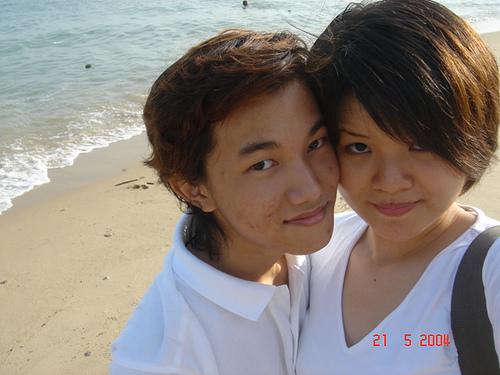without_mask: (175, 71, 341, 268), (325, 87, 487, 251)
